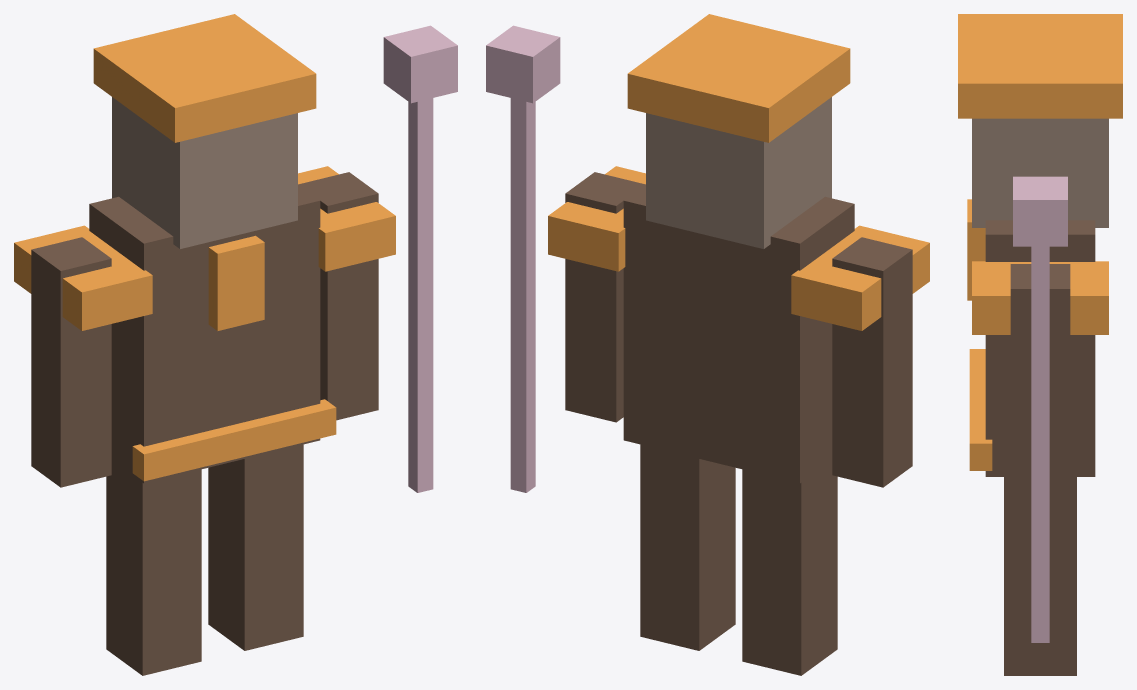
File: 20_ren_runeclasp_fixer_at_echo.glb
3 renders of one model, left to right at view 1: azimuth 30°, elevation 25°; view 2: azimuth 150°, elevation 25°; view 3: azimuth 270°, elevation 25°, orthographic.
Parts seen in each view (by area): view 1: Ren Runeclasp, Fixer at Echo; view 2: Ren Runeclasp, Fixer at Echo; view 3: Ren Runeclasp, Fixer at Echo.
Boxes of the visible parts, <box> form: Ren Runeclasp, Fixer at Echo: <box>14,14,457,675</box>; Ren Runeclasp, Fixer at Echo: <box>486,14,929,675</box>; Ren Runeclasp, Fixer at Echo: <box>958,14,1122,675</box>.
Size of the model in its own units: 1.09 by 1.52 by 0.3872.
